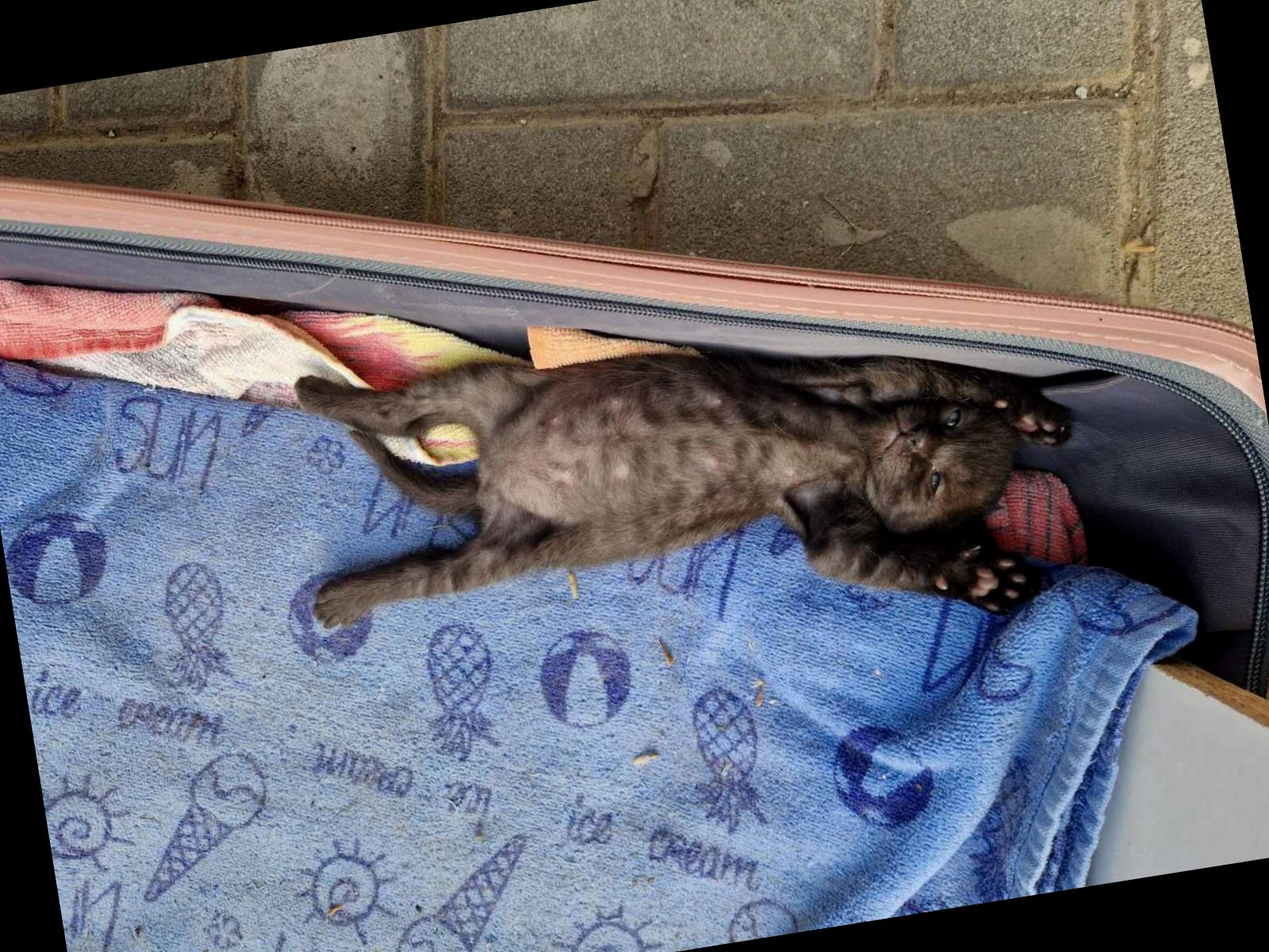macka: (286, 253, 1115, 731)
